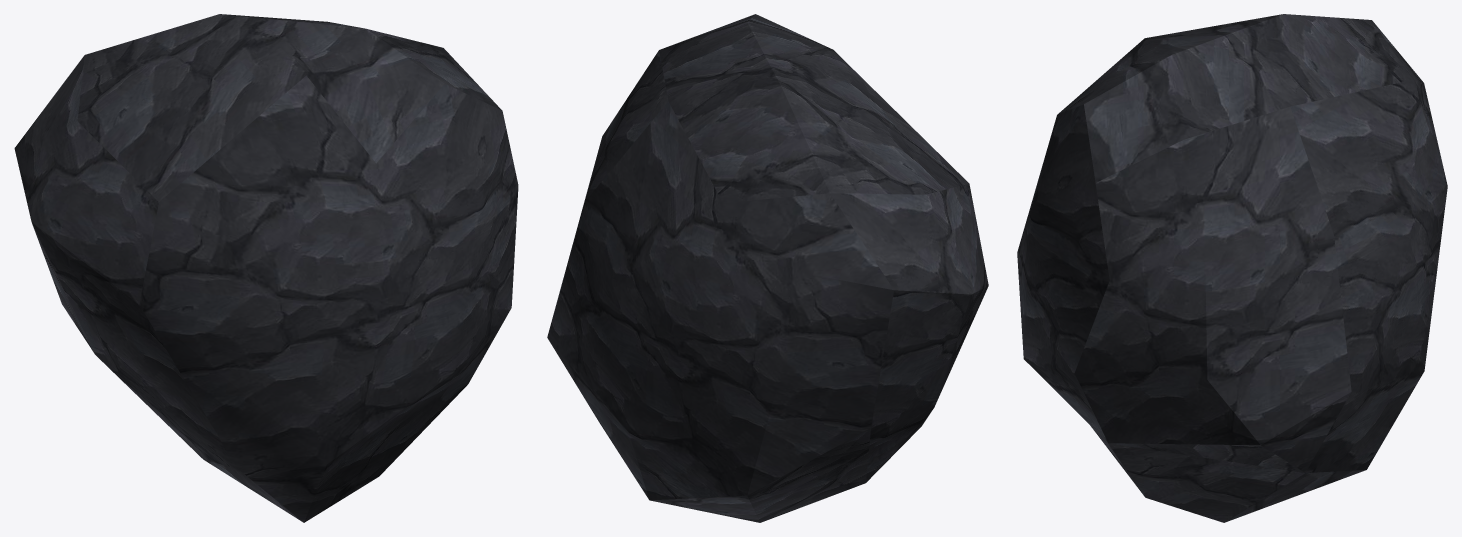
File: grock_d.glb
The picture shows the model from 3 angles, left to right: view 1: azimuth 30°, elevation 25°; view 2: azimuth 150°, elevation 25°; view 3: azimuth 270°, elevation 25°; orthographic projection.
Parts seen in each view (by area): view 1: model; view 2: model; view 3: model.
Part boxes in pixels (x1,y1,x2,y2): model: (14,14,518,522); model: (547,14,988,522); model: (1017,14,1447,522).
Bounding box in the file's own units: 0.9234 × 0.9667 × 0.8008.
Materials: 1 (1 with a texture image).
